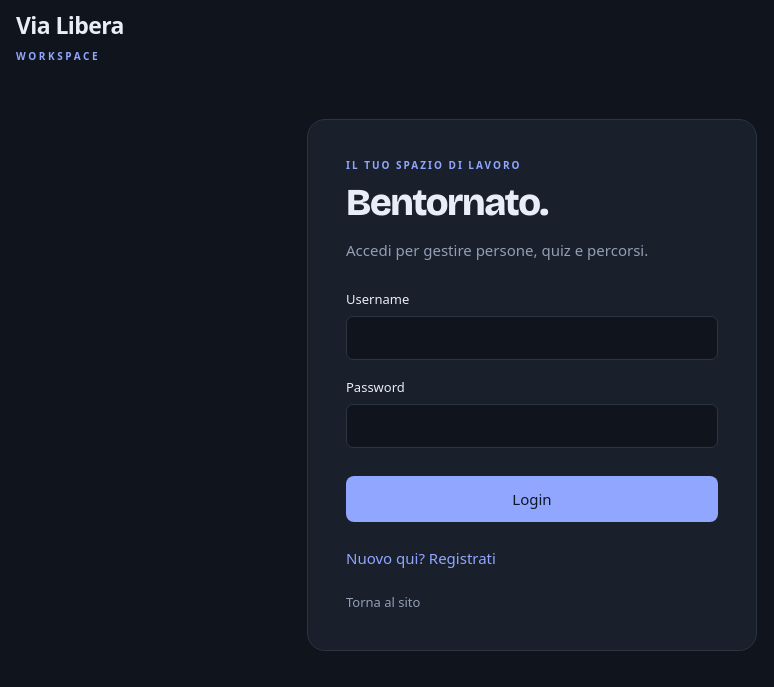
React login and backoffice › shows authentication errors and does not open the workspace
Step 1. Type "admin" into the field labelled "Username" → (532, 338), box [346, 316, 718, 360]
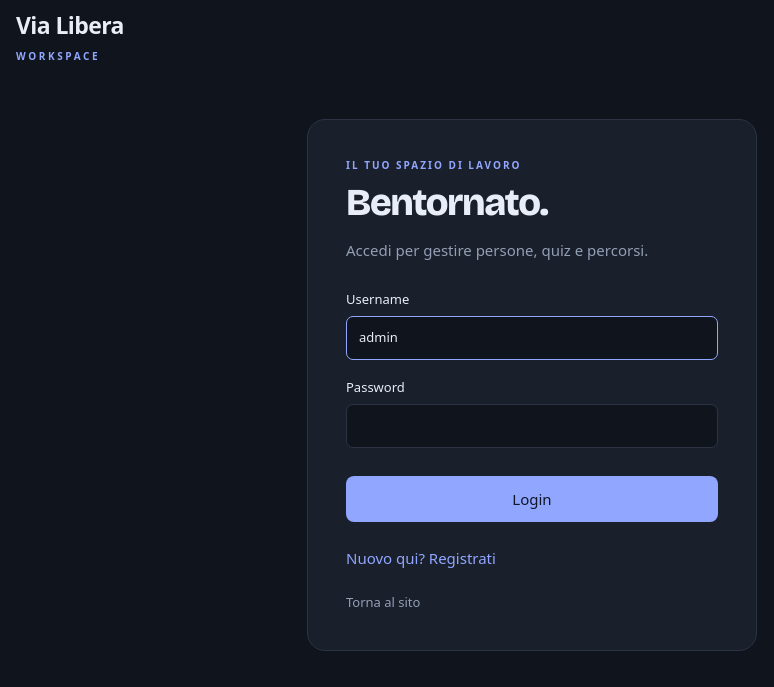
Step 2. Type "wrong" into the password field labelled "Password" → (532, 426), box [346, 404, 718, 448]
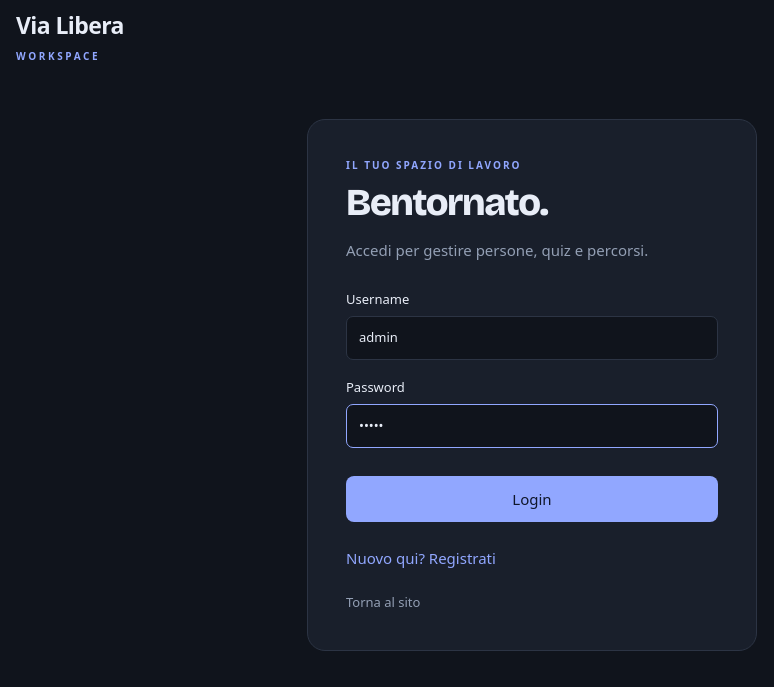
Step 3. Click the button "Login" → (532, 499), box [346, 476, 718, 522]
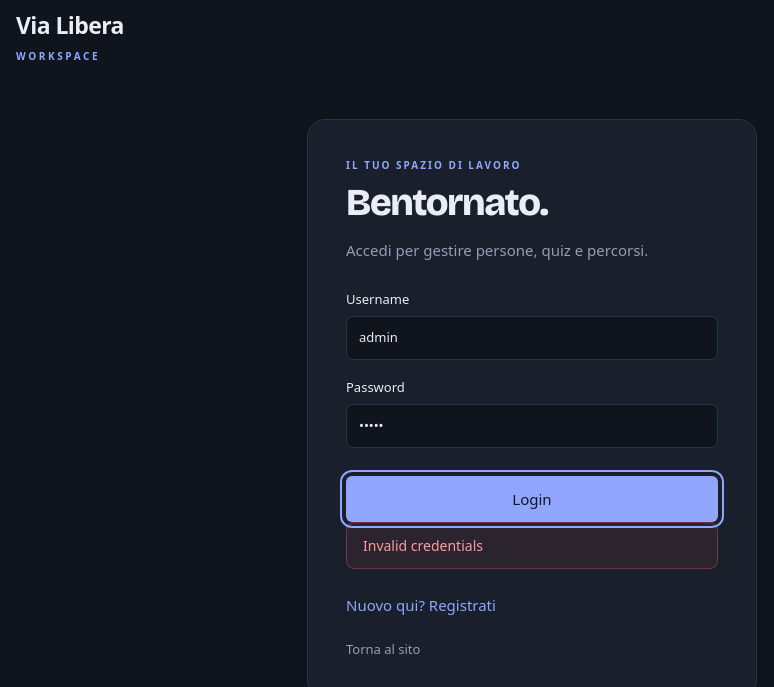
expect the text "Invalid credentials" is shown: met, box [346, 522, 718, 569]
